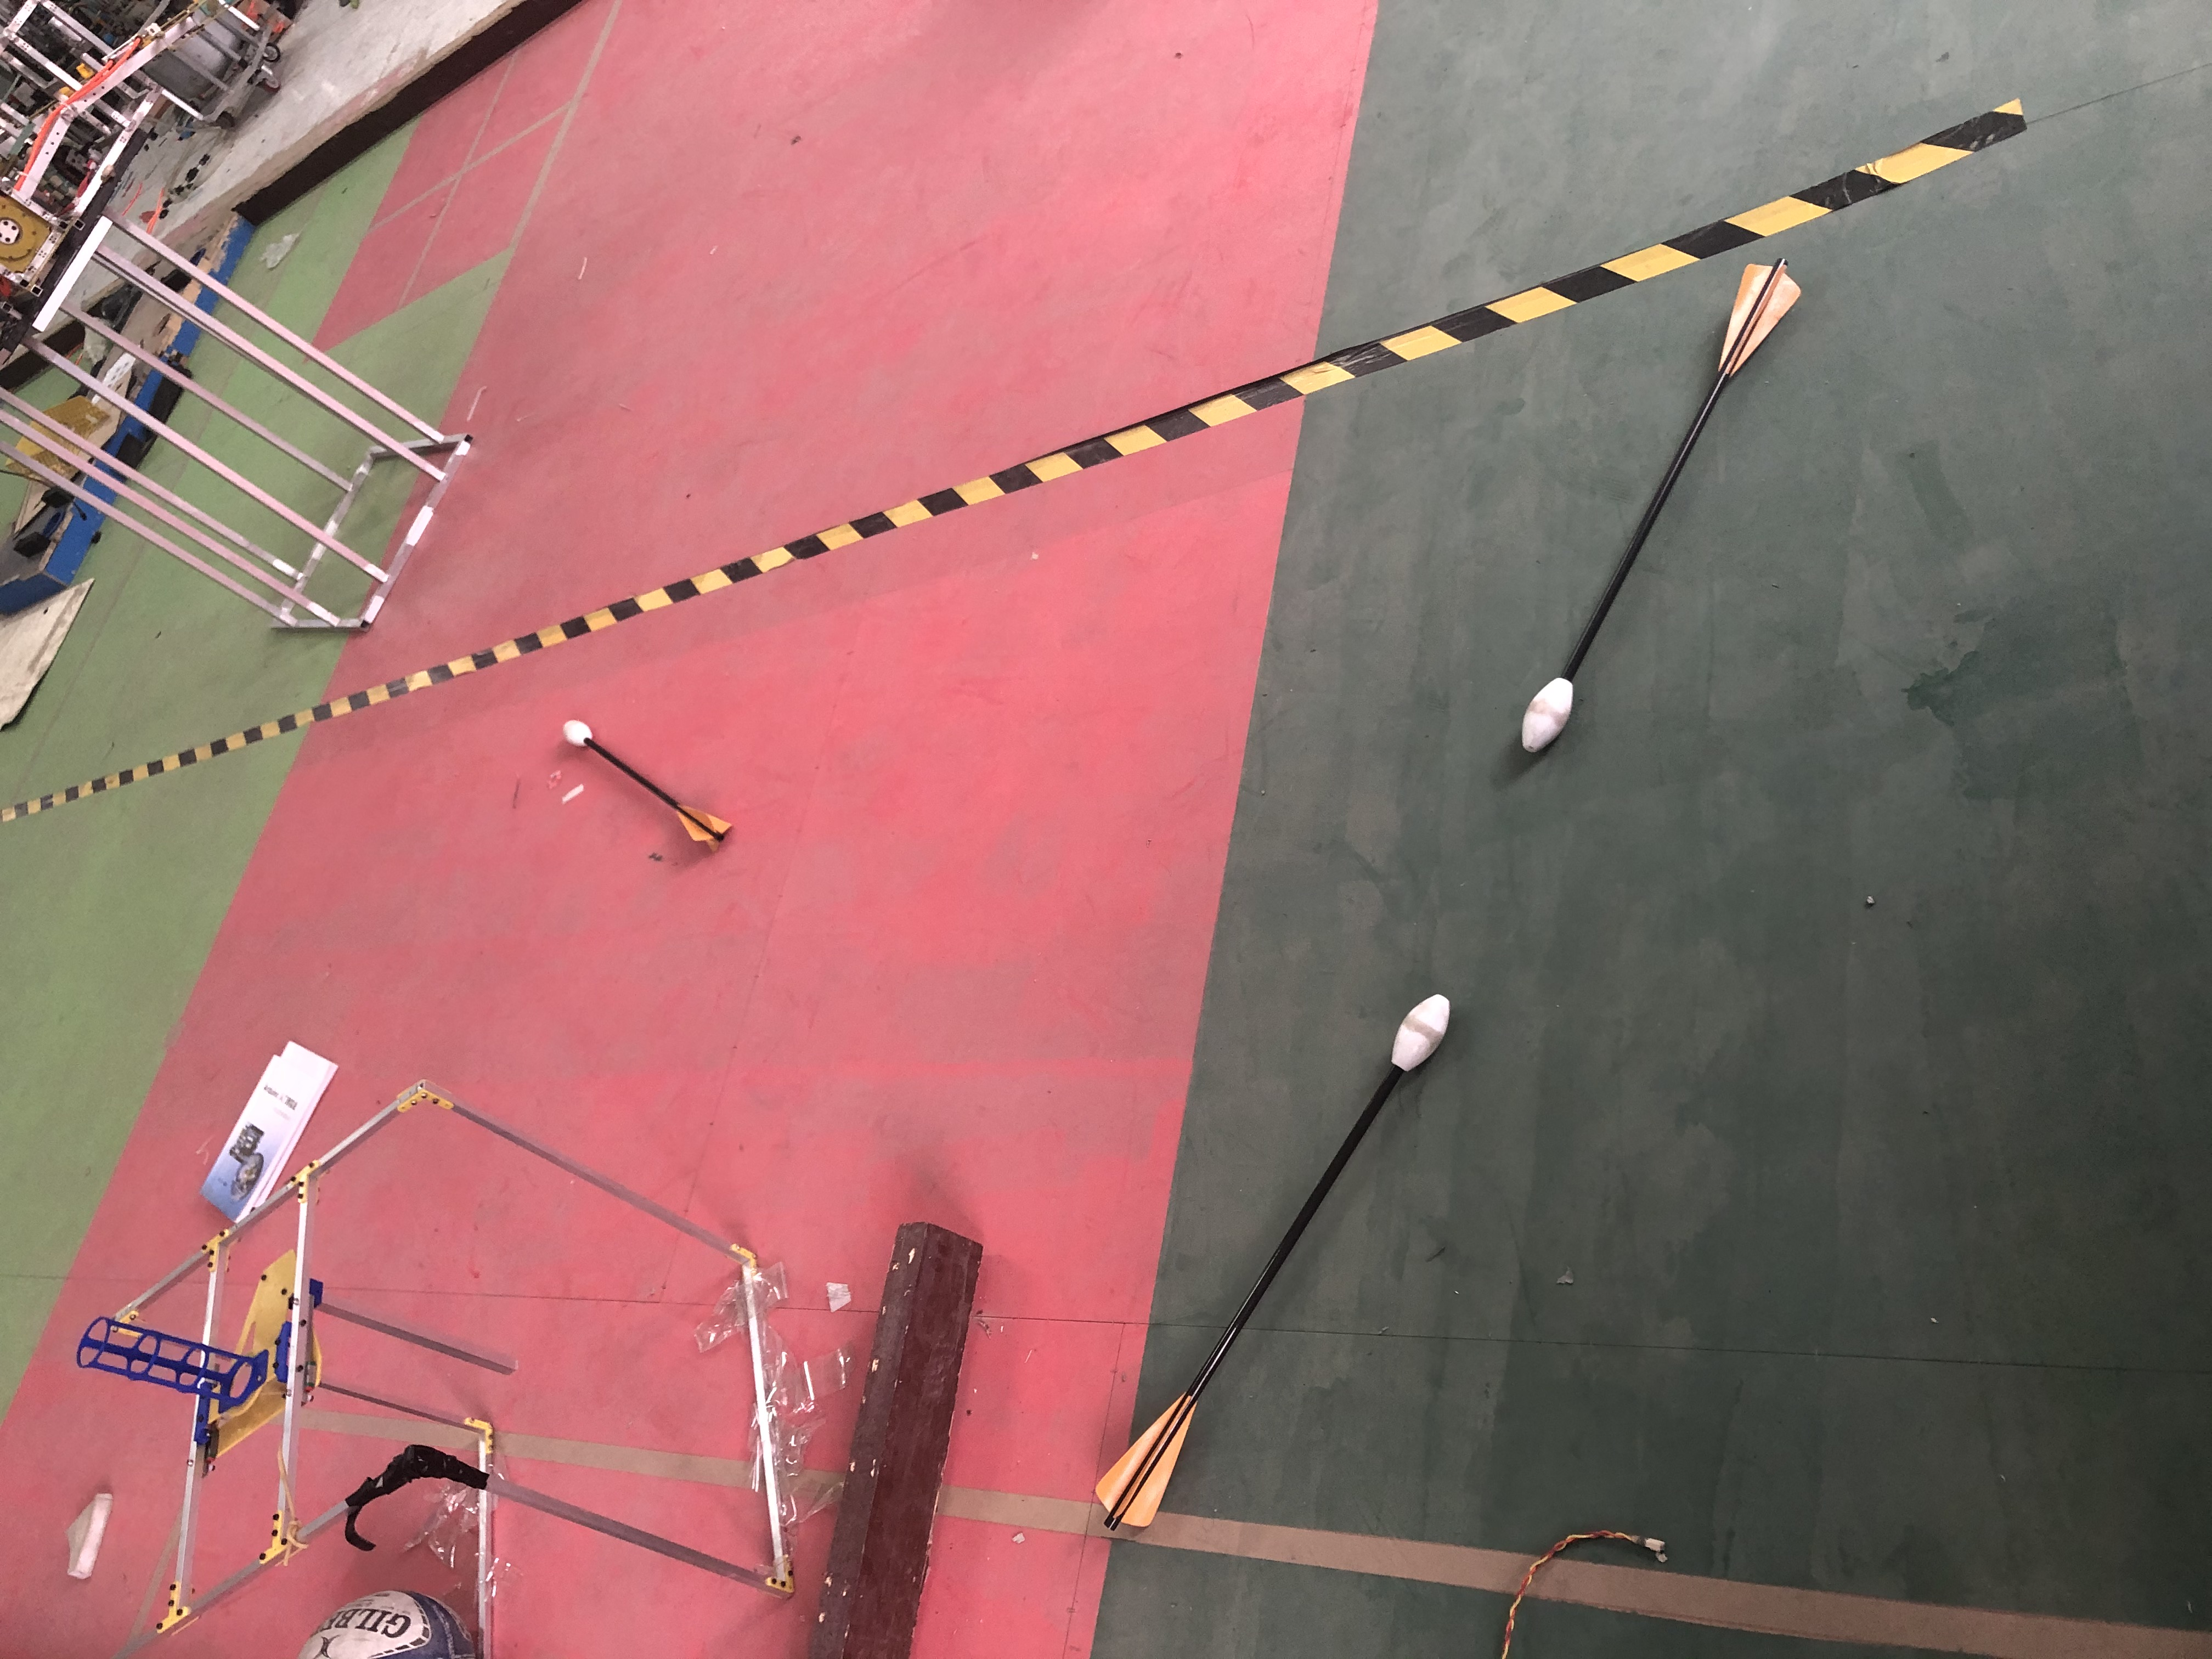arrow: (1092, 993, 1449, 1535), (1521, 260, 1810, 753), (559, 713, 726, 849)
arrowFront: (1386, 995, 1451, 1075), (1522, 674, 1578, 756), (561, 714, 599, 756)
